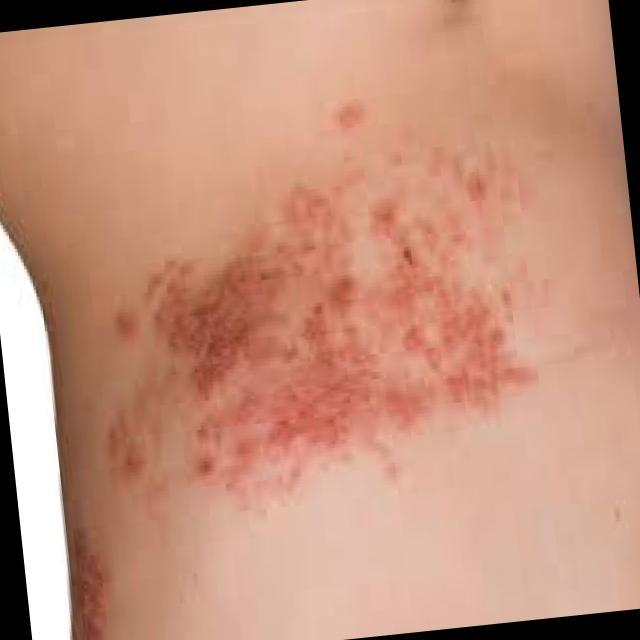Eczema: (98, 112, 534, 475)
